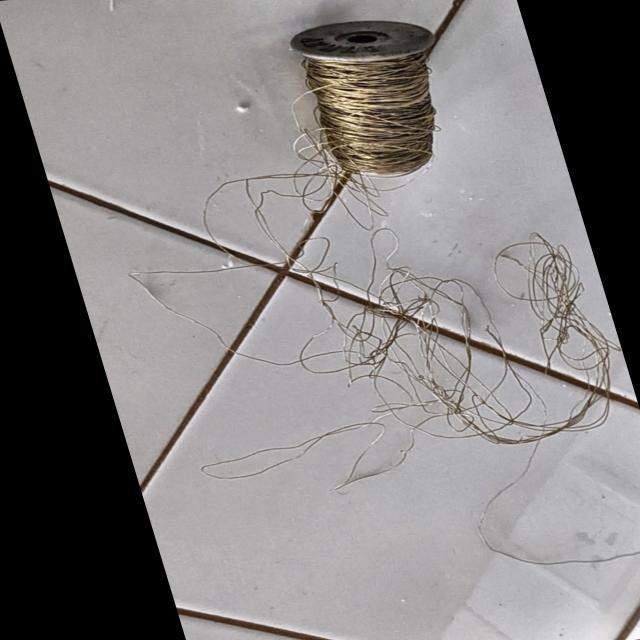Wire Coil: (253, 4, 495, 192)
